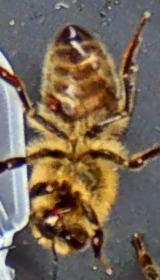varroa_mite: (32, 92, 68, 121)
